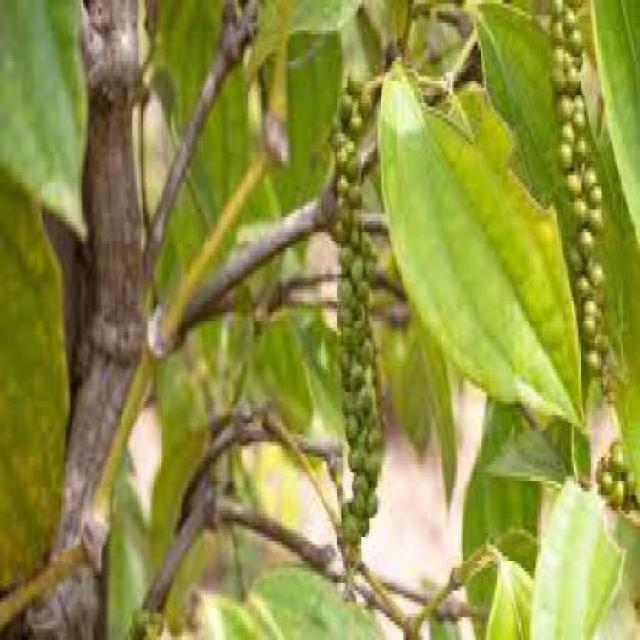UNRIPE: (550, 0, 639, 511), (334, 80, 378, 571)
